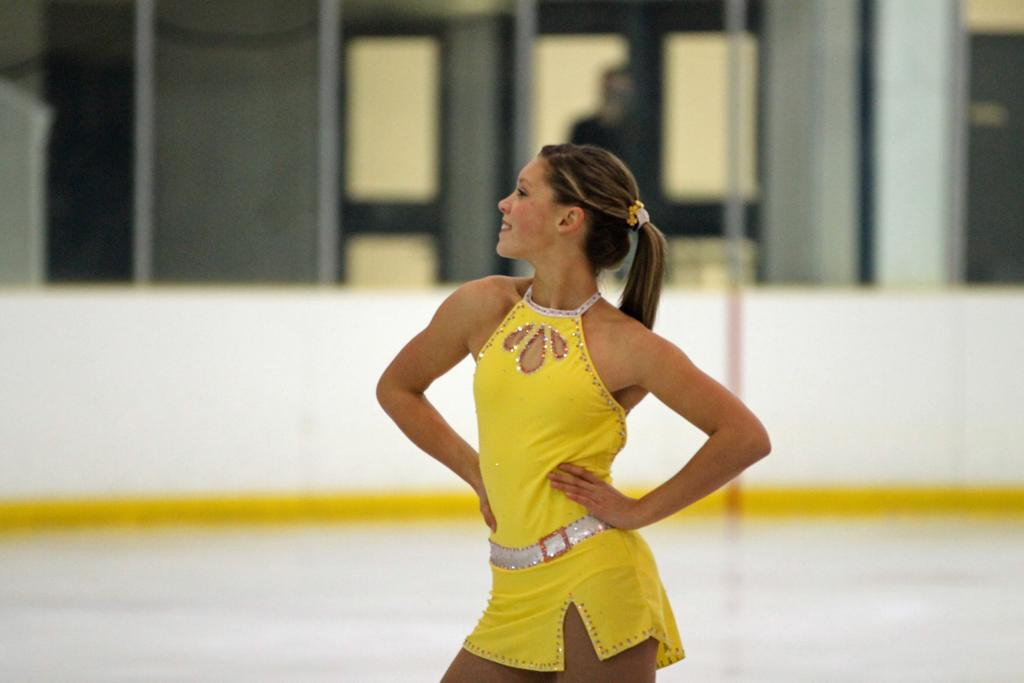face: (499, 157, 561, 257)
